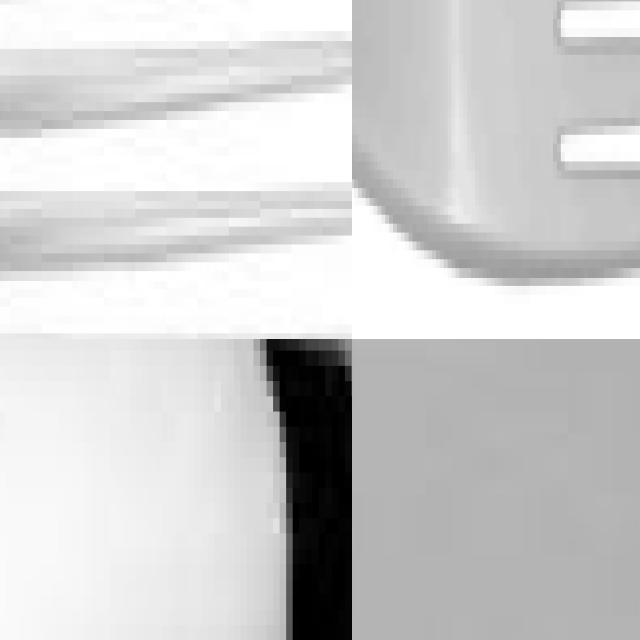forks: (0, 0, 352, 339), (352, 0, 640, 322)
spoons: (0, 339, 352, 640)
